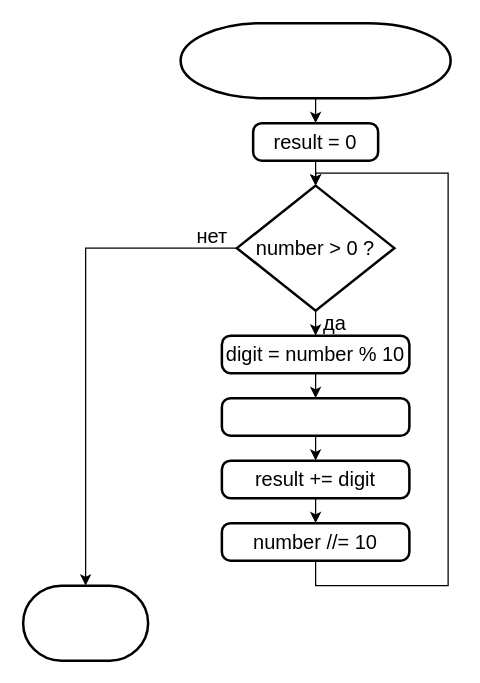
Image size: 480x683. Some labels were removed from this diagram. Each missing label, with the box of its shape:
int_reverse(number): (179, 21, 451, 99)
result *= 10: (220, 396, 410, 436)
Возврат result: (21, 584, 149, 661)
